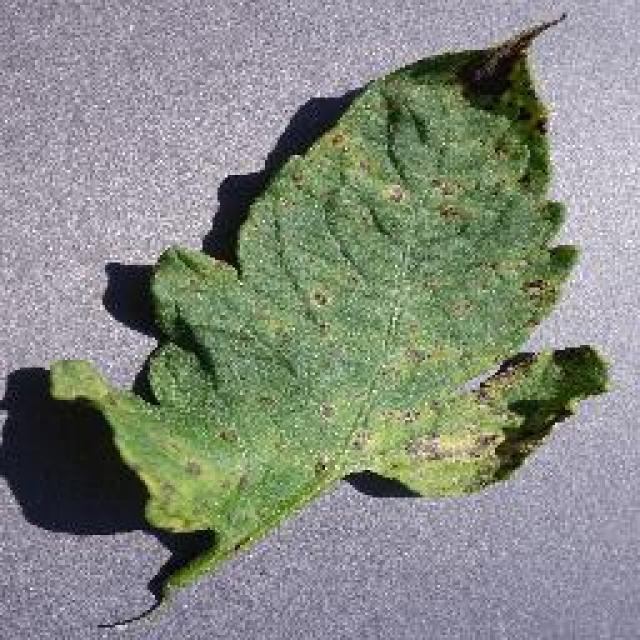Tomato target spot leaf: (49, 15, 611, 555)
